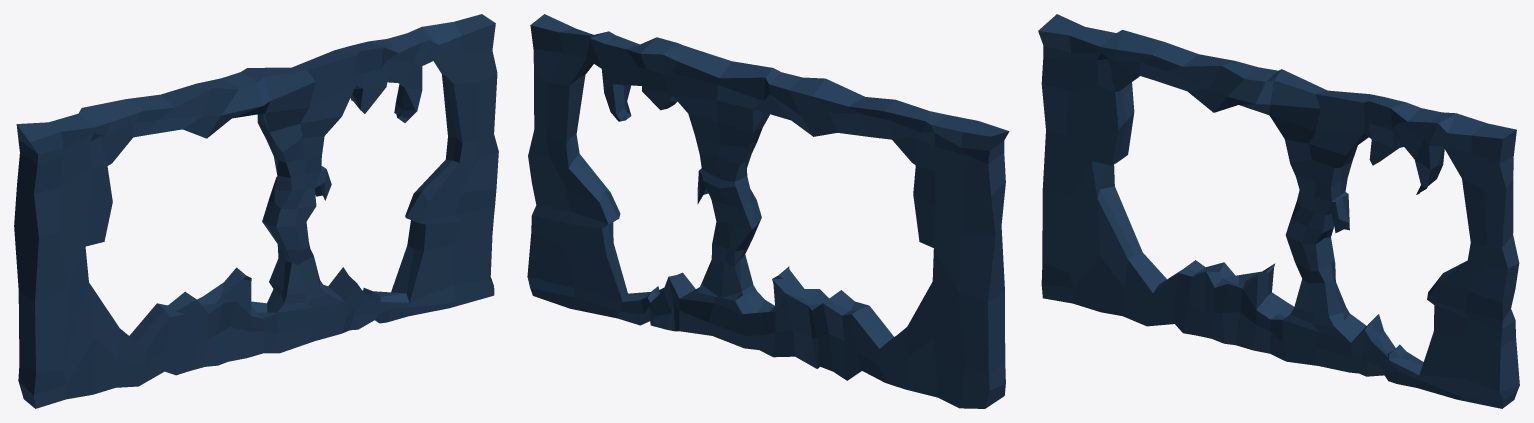
File: cenario.fbx
3 views of the same model, side by side, from view 1: azimuth 30°, elevation 25°; view 2: azimuth 150°, elevation 25°; view 3: azimuth 330°, elevation 25° (orthographic).
Parts seen in each view (by area): view 1: Cube; view 2: Cube; view 3: Cube.
Boxes of the visible parts, left/top/right/bottom form: Cube: left=14, top=14, right=498, bottom=408; Cube: left=527, top=14, right=1009, bottom=408; Cube: left=1038, top=14, right=1519, bottom=408.
Size of the model in its own units: 512 by 295 by 46.18.
